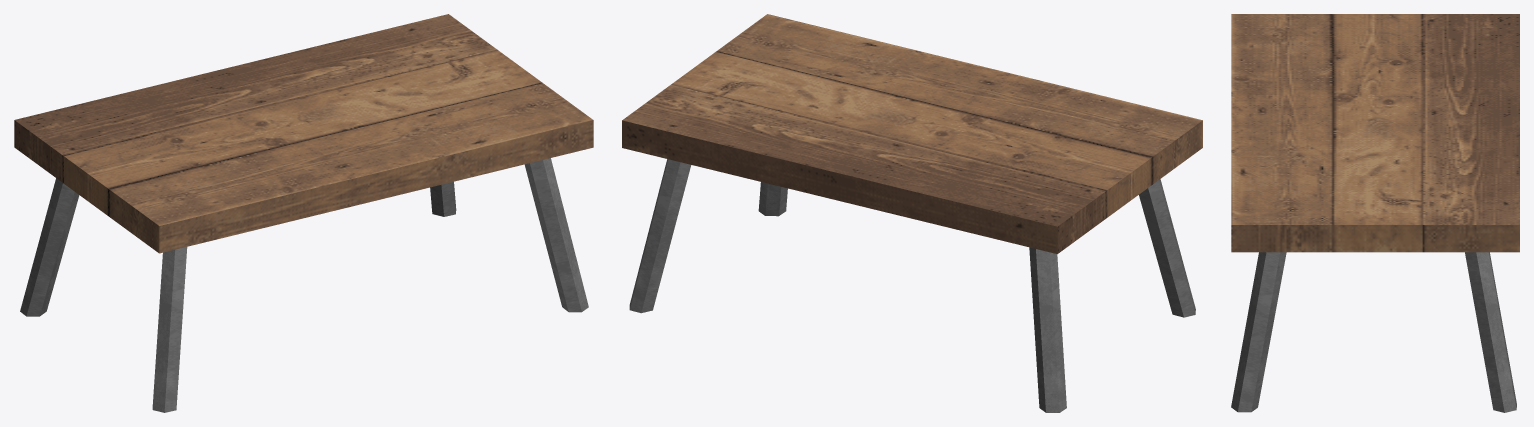
The model's file is Table.fbx.
3 views of the same model, side by side, from view 1: azimuth 30°, elevation 25°; view 2: azimuth 150°, elevation 25°; view 3: azimuth 270°, elevation 25° (orthographic).
Parts seen in each view (by area): view 1: Cylinder.001; view 2: Cylinder.001; view 3: Cylinder.001.
Boxes of the visible parts, x1,y1,x2,y2 form: Cylinder.001: [14, 14, 593, 412]; Cylinder.001: [622, 14, 1202, 412]; Cylinder.001: [1231, 14, 1519, 412].
Bounding box in the file's own units: 570 × 237 × 330.
